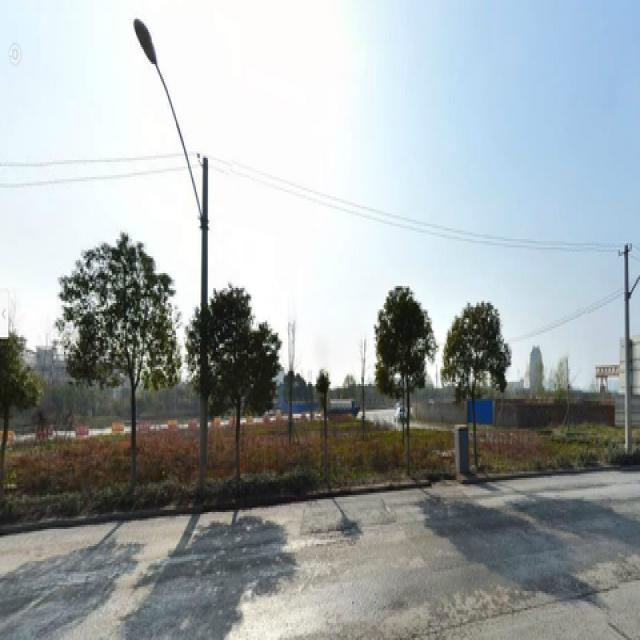cinn: (79, 256, 161, 486), (202, 284, 262, 478), (378, 290, 422, 457), (451, 309, 497, 456)
